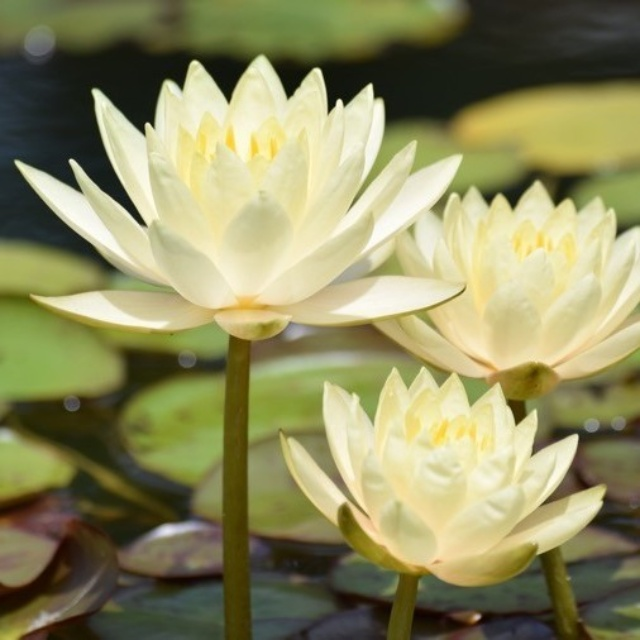obstacle: (23, 47, 459, 618), (248, 348, 611, 618), (405, 154, 607, 385)
